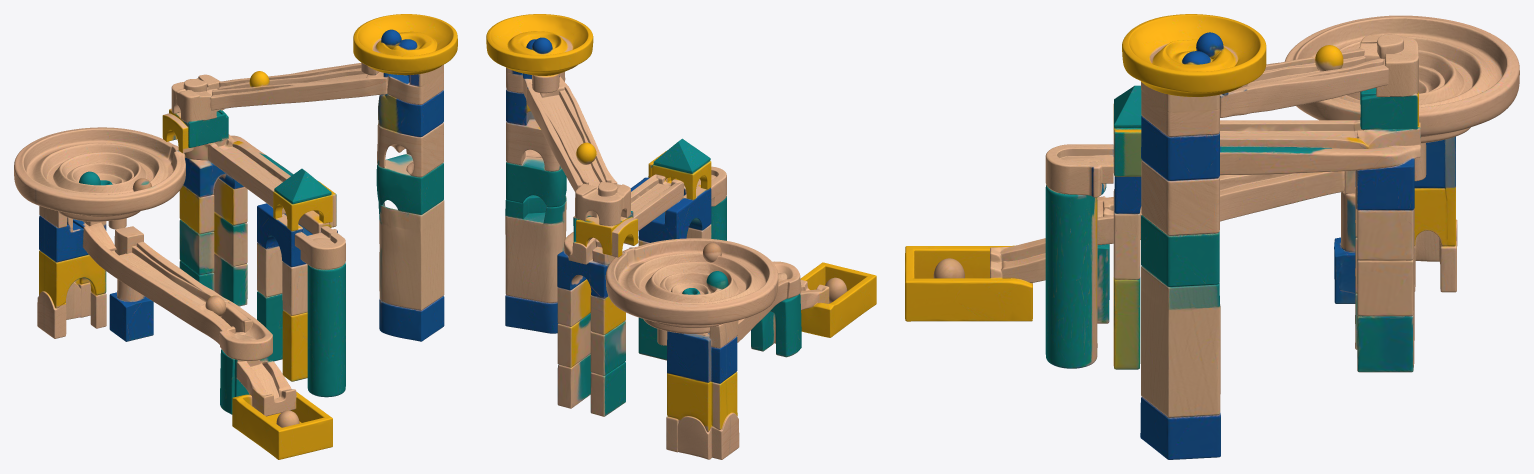
Rendered from marble-run-optimized.glb.
3 views of the same model, side by side, from view 1: azimuth 30°, elevation 25°; view 2: azimuth 150°, elevation 25°; view 3: azimuth 270°, elevation 25° (orthographic). The views are drawn at different scales.
Bounding box in the file's own units: 1.71 × 1.38 × 1.9.
Materials: 1 (1 with a texture image).
